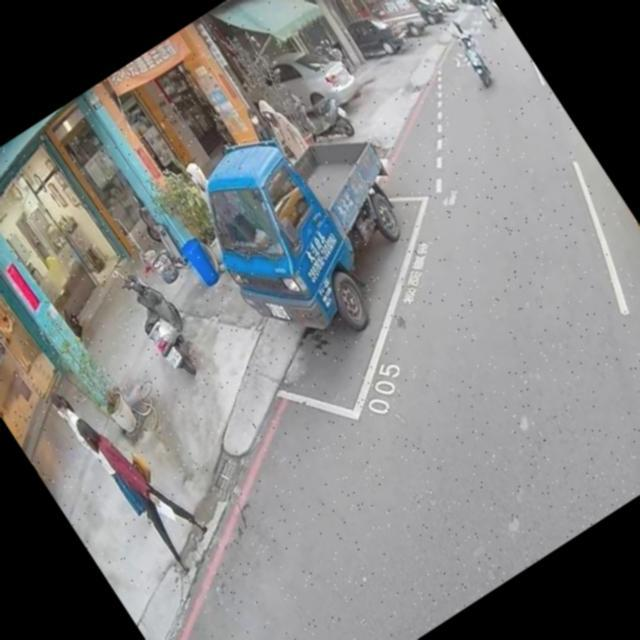person: (61, 378, 222, 580), (40, 370, 172, 540), (250, 88, 316, 170), (174, 152, 223, 211), (238, 100, 283, 154), (444, 15, 477, 52)
